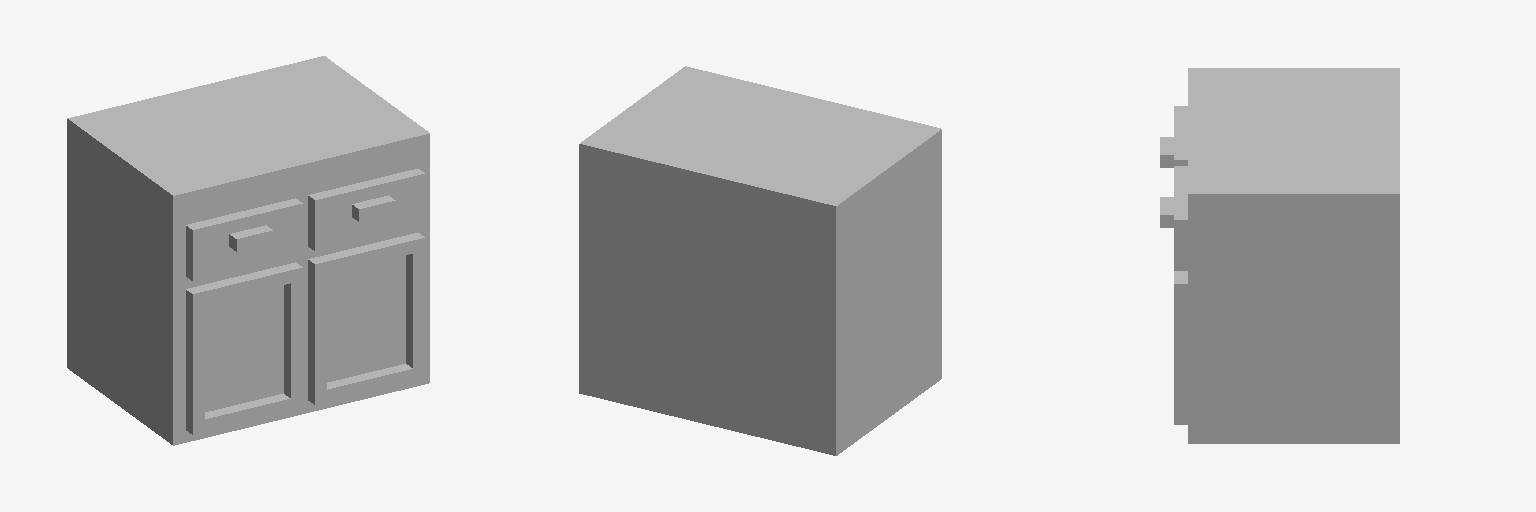
The model's file is KitchenDrawer.obj.
3 renders of one model, left to right at view 1: azimuth 30°, elevation 25°; view 2: azimuth 150°, elevation 25°; view 3: azimuth 270°, elevation 25°, orthographic.
Visible parts, largest first — view 1: object 1; view 2: object 1; view 3: object 1.
Boxes of the visible parts, x1=… form: object 1: x1=67, y1=56, x2=429, y2=445; object 1: x1=579, y1=66, x2=941, y2=455; object 1: x1=1160, y1=68, x2=1399, y2=443.
Size of the model in its own units: 4.2 by 3.9 by 3.4.